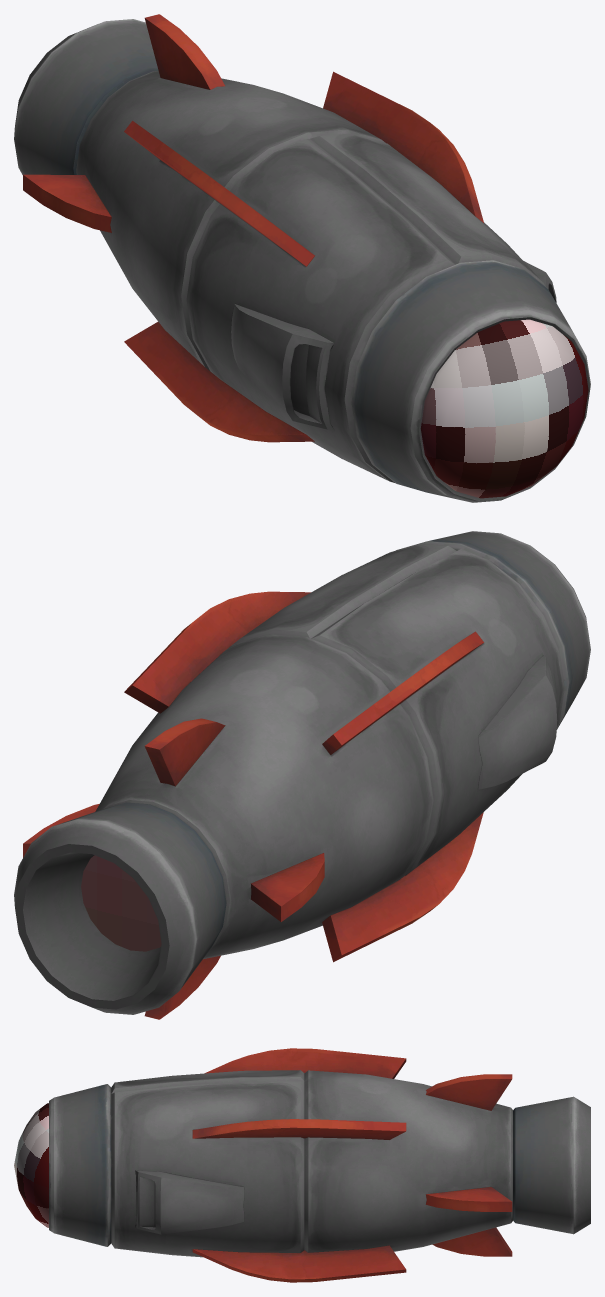
Rendered from BigMissile.fbx.
3 views of the same model, one above another, from view 1: azimuth 30°, elevation 25°; view 2: azimuth 150°, elevation 25°; view 3: azimuth 270°, elevation 25° (orthographic). The views are drawn at different scales.
Visible parts, largest first — view 1: SM_Missile_Big.001; view 2: SM_Missile_Big.001; view 3: SM_Missile_Big.001.
Boxes of the visible parts, box(x1,y1,x2,y2) form: SM_Missile_Big.001: box(14, 14, 590, 502); SM_Missile_Big.001: box(14, 531, 590, 1019); SM_Missile_Big.001: box(14, 1048, 590, 1282).
Size of the model in its own units: 7357 by 6916 by 20345.
2 materials, 2 textured.
